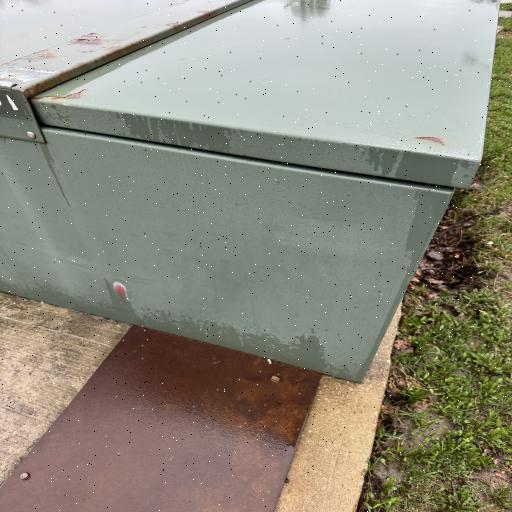Electrical Box: (0, 1, 498, 382)
